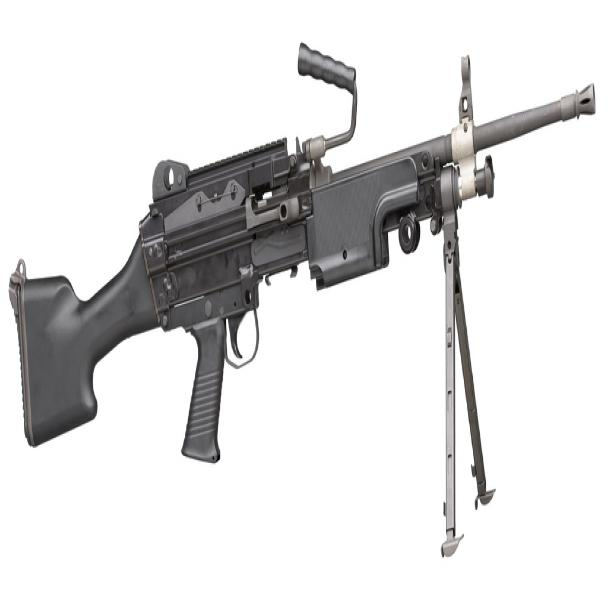Gun: (9, 33, 603, 572)
